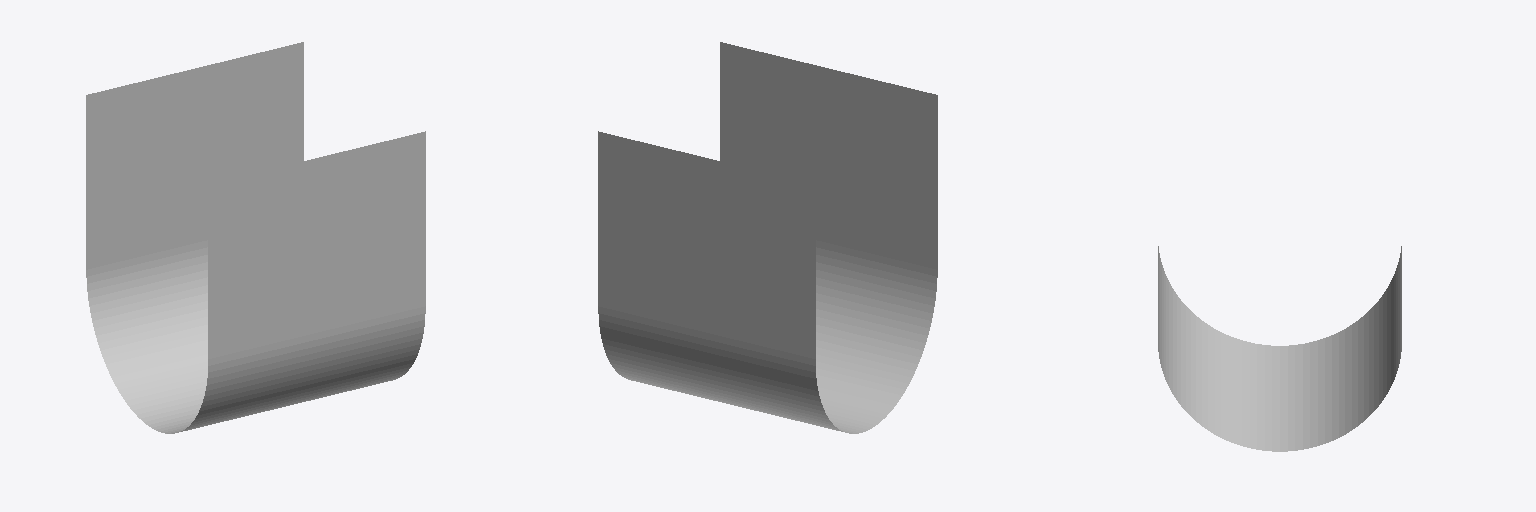
The model's file is U_simu.obj.
3 renders of one model, left to right at view 1: azimuth 30°, elevation 25°; view 2: azimuth 150°, elevation 25°; view 3: azimuth 270°, elevation 25°, orthographic.
Size of the model in its own units: 1.95 by 2.45 by 1.9.